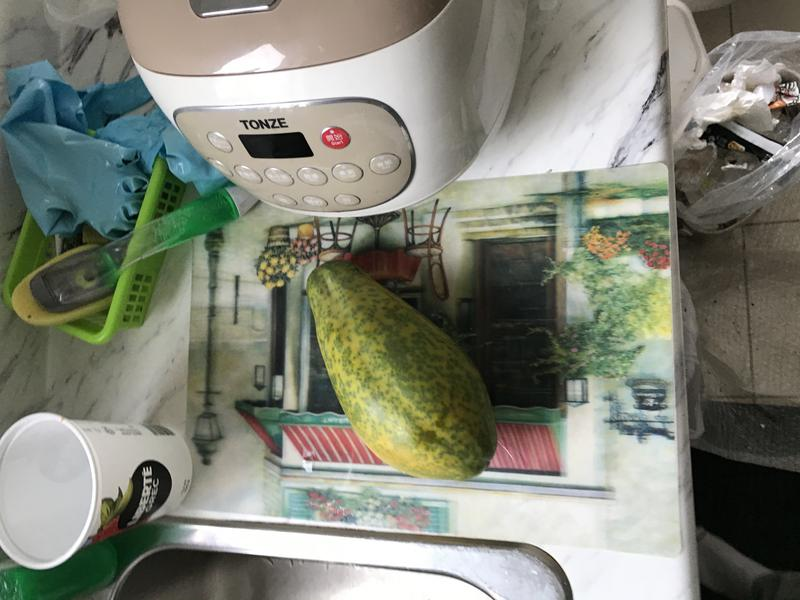papaya: (296, 252, 511, 495)
